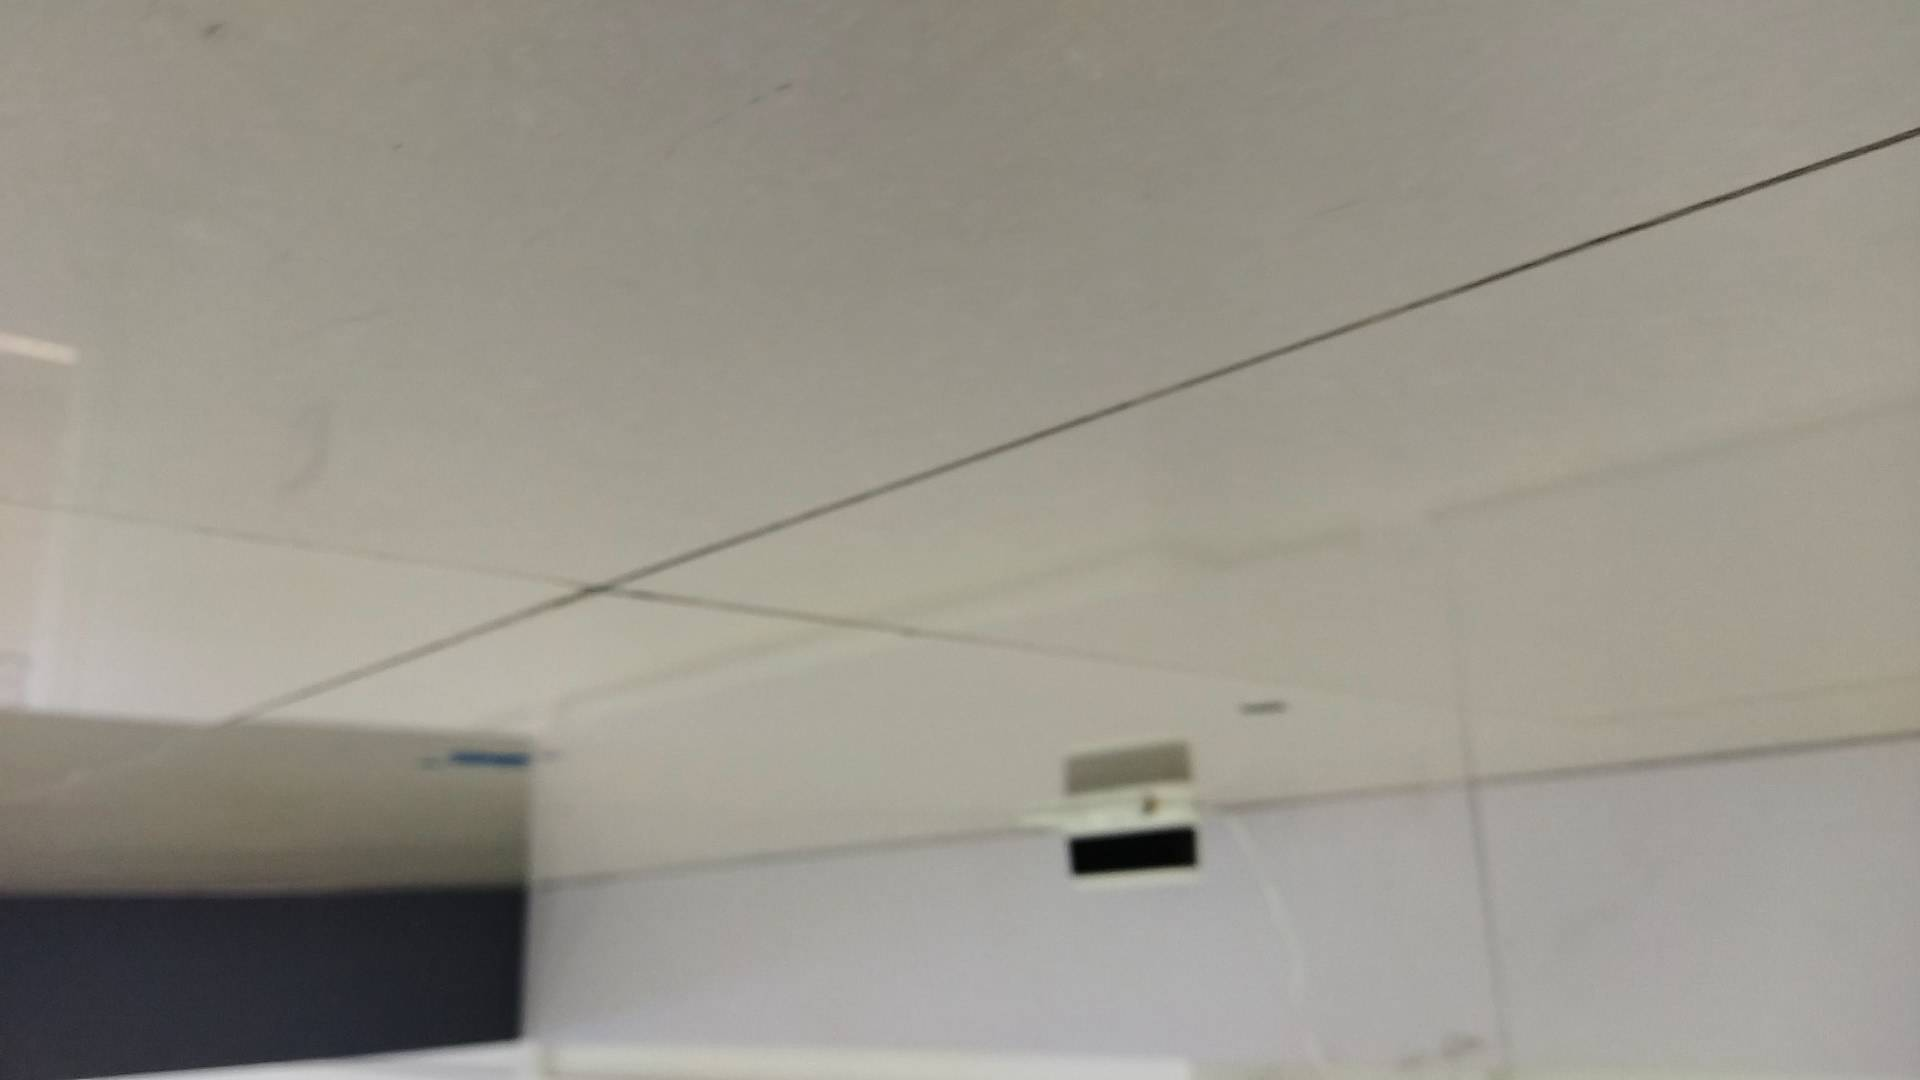recharge seat: (1014, 773, 1212, 889)
